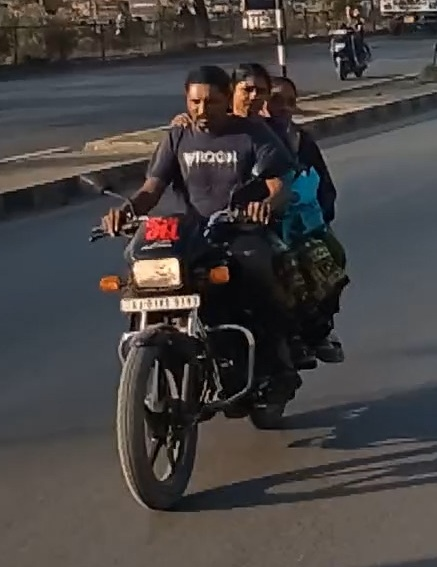BikeWithRider: (71, 56, 359, 518), (320, 0, 377, 83)
NoHelmet: (174, 61, 237, 134), (224, 58, 275, 120), (258, 73, 303, 129)
